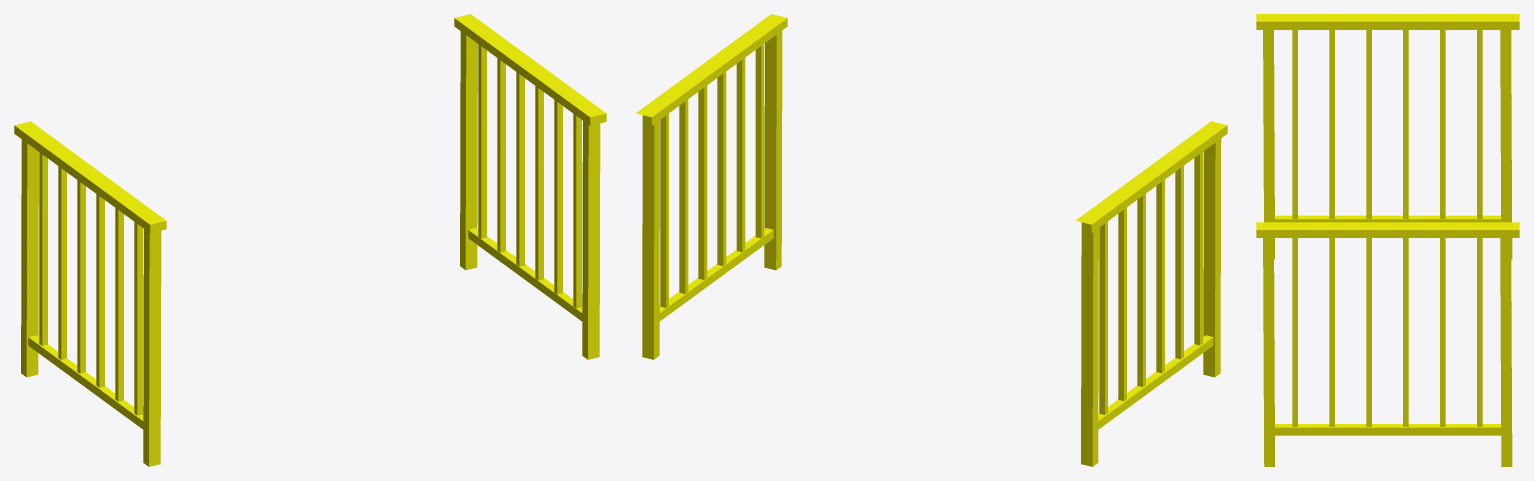
File: stairs-rails-metal-straight-1.glb
3 renders of one model, left to right at view 1: azimuth 30°, elevation 25°; view 2: azimuth 150°, elevation 25°; view 3: azimuth 270°, elevation 25°, orthographic. The views are drawn at different scales.
Parts seen in each view (by area): view 1: Stairs_Rails_Metal_Straight_1; view 2: Stairs_Rails_Metal_Straight_1; view 3: Stairs_Rails_Metal_Straight_1.
Boxes of the visible parts, box(x1,y1,x2,y2) form: Stairs_Rails_Metal_Straight_1: box(14, 14, 606, 466); Stairs_Rails_Metal_Straight_1: box(636, 14, 1227, 466); Stairs_Rails_Metal_Straight_1: box(1256, 14, 1519, 466).
Size of the model in its own units: 1.94 by 0.9981 by 1.
Materials: 1 (1 with a texture image).
